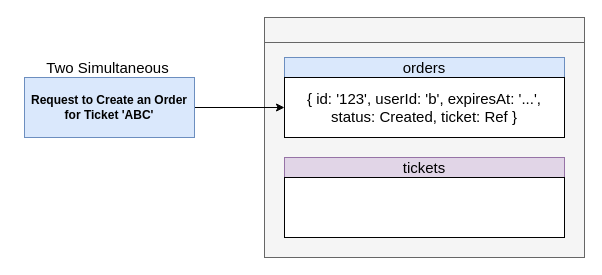
Image size: 602x275. Some labels were removed from this diagram. Each missing label, with the centre of its shape:
Orders Service: [424,29]
{ id: 'ABC', title: 'concert', price: 20 }: [424,207]
